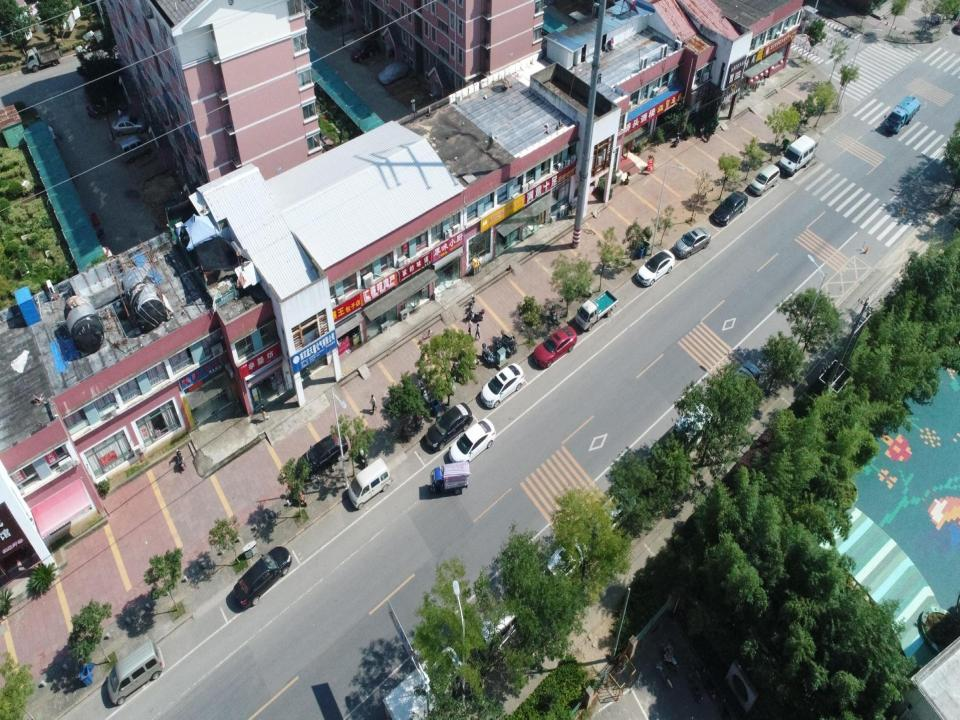car: (232, 545, 292, 610), (538, 530, 593, 595), (294, 428, 348, 481), (590, 487, 636, 543), (425, 402, 473, 452), (448, 417, 496, 465), (668, 401, 714, 450), (717, 360, 762, 409), (532, 325, 578, 370), (480, 362, 524, 409), (636, 249, 675, 287), (712, 190, 748, 227), (673, 227, 711, 259), (377, 60, 410, 88), (111, 114, 146, 138), (350, 39, 380, 64), (954, 6, 959, 36)
truck: (107, 638, 166, 706), (574, 288, 619, 332), (885, 94, 921, 135), (24, 42, 62, 74)
van: (382, 646, 467, 720), (478, 599, 530, 661), (347, 456, 392, 510), (778, 134, 816, 176), (118, 134, 152, 165), (749, 163, 780, 196)
